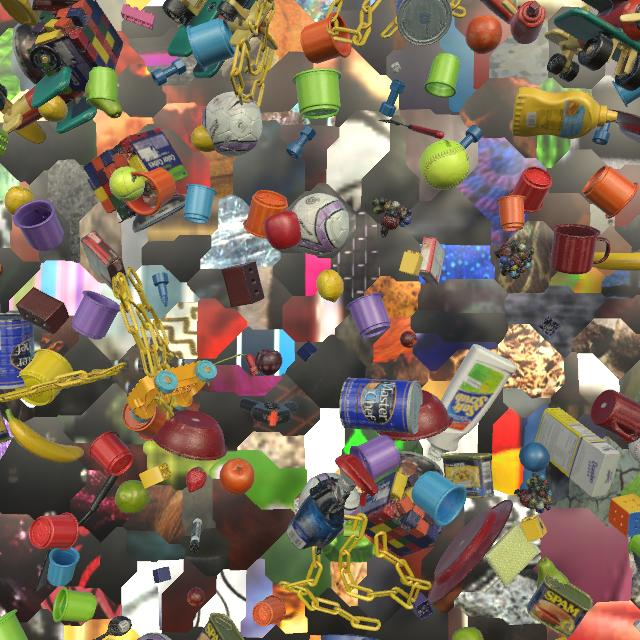ycb_002_master_chef_can: (339, 377, 423, 434), (0, 313, 35, 390), (394, 0, 452, 46)
ycb_004_sugar_box: (534, 408, 621, 497)
ycb_006_mustard_bottle: (512, 87, 618, 139), (0, 0, 42, 26)
ycb_008_pudding_box: (80, 230, 130, 291), (28, 0, 80, 11)
ycb_009_gelatin_box: (419, 237, 446, 284)
ycb_010_potted_meat_can: (527, 573, 593, 637), (441, 453, 494, 498), (197, 613, 245, 640), (0, 411, 13, 444)
ycb_011_banana: (5, 409, 84, 463), (592, 252, 640, 271)
ycb_012_strawberry: (186, 467, 207, 492)
ycb_013_apple: (263, 211, 301, 250)
ycb_014_lemon: (316, 269, 344, 302), (5, 186, 34, 215), (38, 96, 68, 122), (190, 125, 216, 152), (255, 0, 274, 2)
ycb_016_pear: (85, 80, 122, 118), (115, 480, 151, 514), (537, 558, 570, 588), (451, 627, 483, 640)
ycb_017_orange: (465, 16, 502, 54), (219, 458, 255, 495)
ycb_018_plum: (255, 349, 282, 376)
